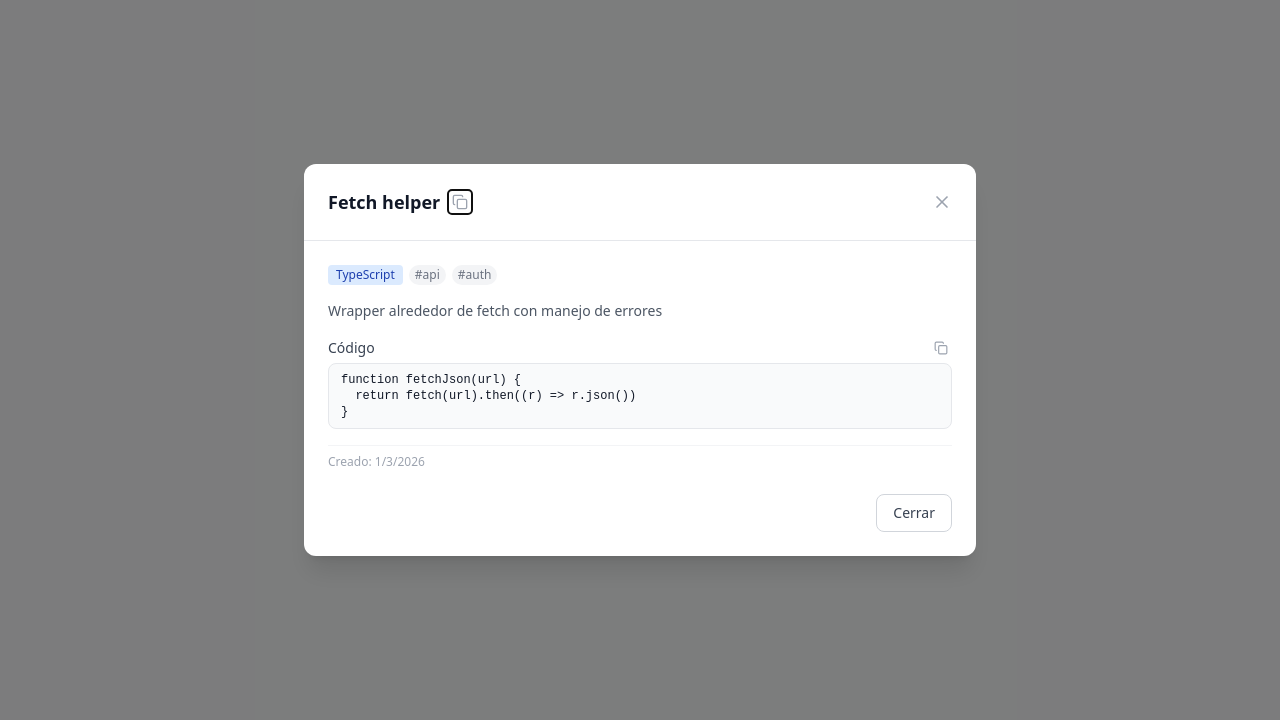
Test case: SnippetViewModal › copia el código de forma independiente del título
The image size is (1280, 720).
Click the button named "Copiar código": (941, 348) x1=930 y1=337 x2=952 y2=359
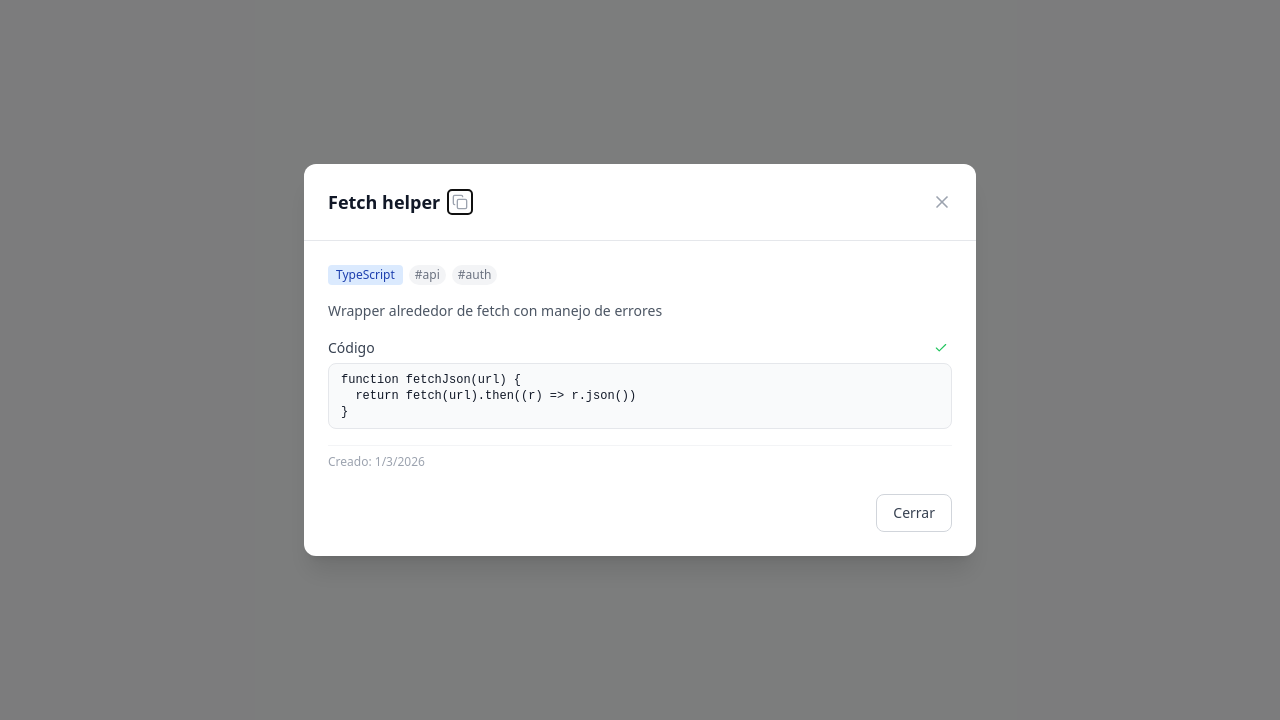
Check: the icon in the row of "Código" is shown, box x1=934 y1=341 x2=948 y2=355
